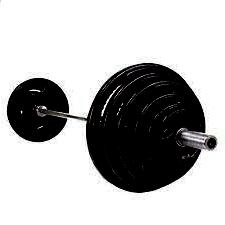Barbell: (200, 133, 217, 155)
